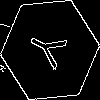Y: (25, 25, 75, 75)
